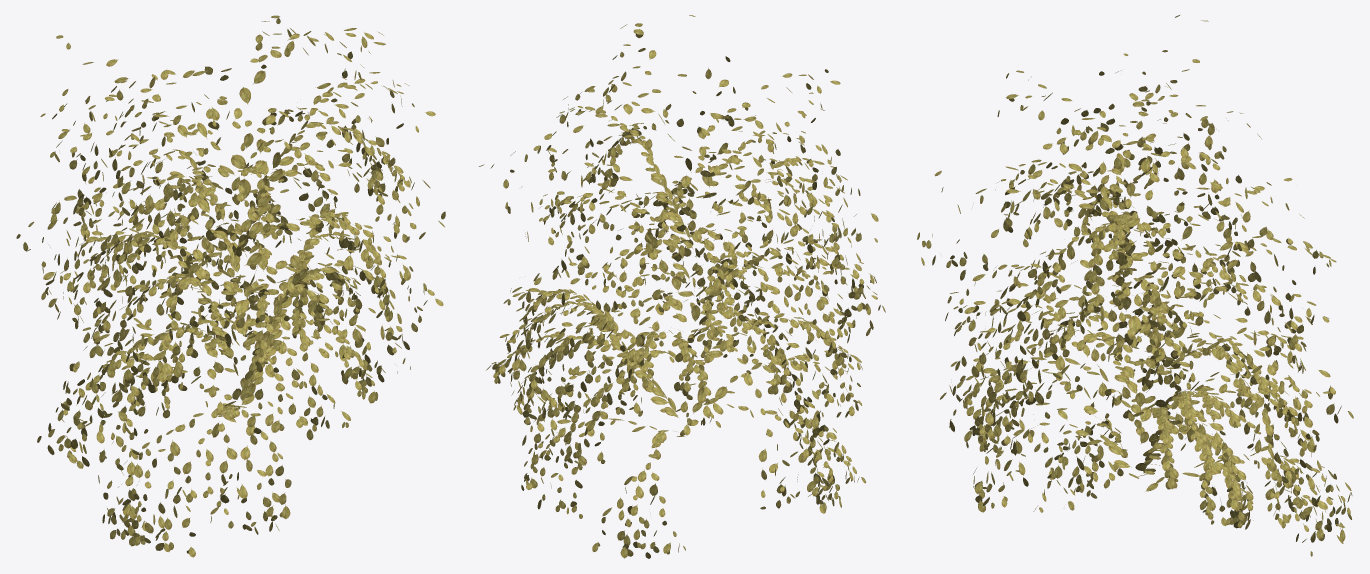
File: MainTree_Leaves03.fbx
The picture shows the model from 3 angles, left to right: view 1: azimuth 30°, elevation 25°; view 2: azimuth 150°, elevation 25°; view 3: azimuth 270°, elevation 25°; orthographic projection. The views are drawn at different scales.
Visible parts, largest first — view 1: MainTree_Leaves03; view 2: MainTree_Leaves03; view 3: MainTree_Leaves03.
Boxes of the visible parts, x1,y1,x2,y2 form: MainTree_Leaves03: (16, 15, 445, 557); MainTree_Leaves03: (479, 15, 885, 558); MainTree_Leaves03: (917, 15, 1353, 556).
Bounding box in the file's own units: 687 × 834 × 713.
